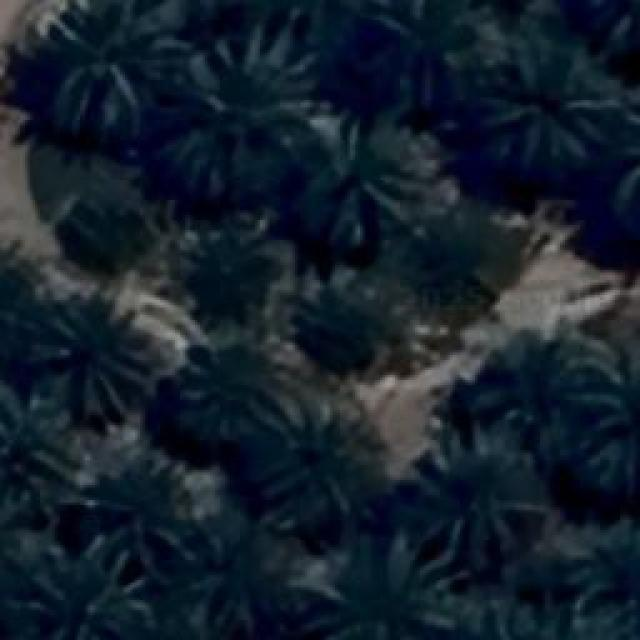PalmTree: (182, 51, 300, 191), (42, 0, 180, 118), (490, 54, 608, 184), (302, 126, 422, 242), (555, 342, 640, 496), (417, 445, 540, 545), (35, 301, 133, 414), (264, 416, 376, 514), (181, 536, 289, 632), (354, 6, 482, 86), (338, 562, 458, 640), (94, 468, 198, 554), (410, 220, 505, 310), (180, 348, 270, 442), (26, 562, 134, 640), (0, 388, 78, 482), (308, 292, 396, 366), (60, 205, 150, 275), (188, 232, 266, 312), (0, 240, 45, 368), (468, 600, 600, 640), (570, 538, 640, 608), (581, 0, 640, 59), (264, 0, 363, 32)
